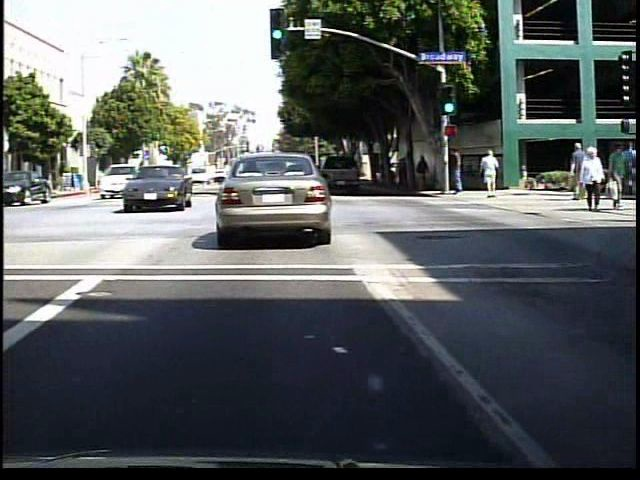person: (579, 145, 610, 211), (608, 143, 633, 208), (571, 140, 595, 204), (478, 147, 502, 201), (451, 144, 471, 201), (420, 152, 436, 191), (404, 155, 417, 190)
